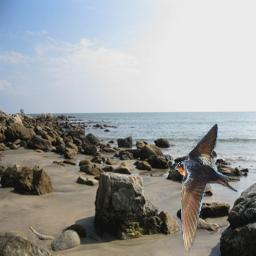Swallow: (175, 123, 240, 253)
